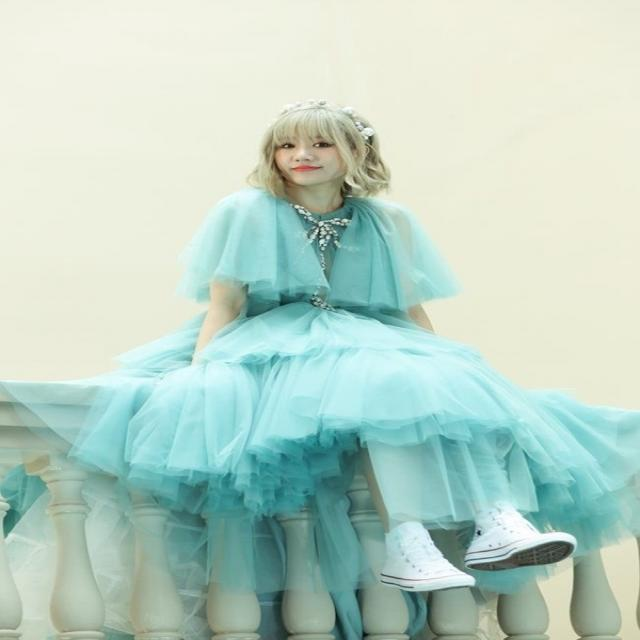clothes: (156, 188, 559, 520)
